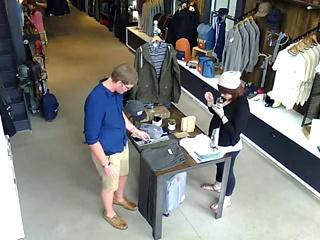Normal: (82, 64, 150, 230), (200, 70, 250, 212)
